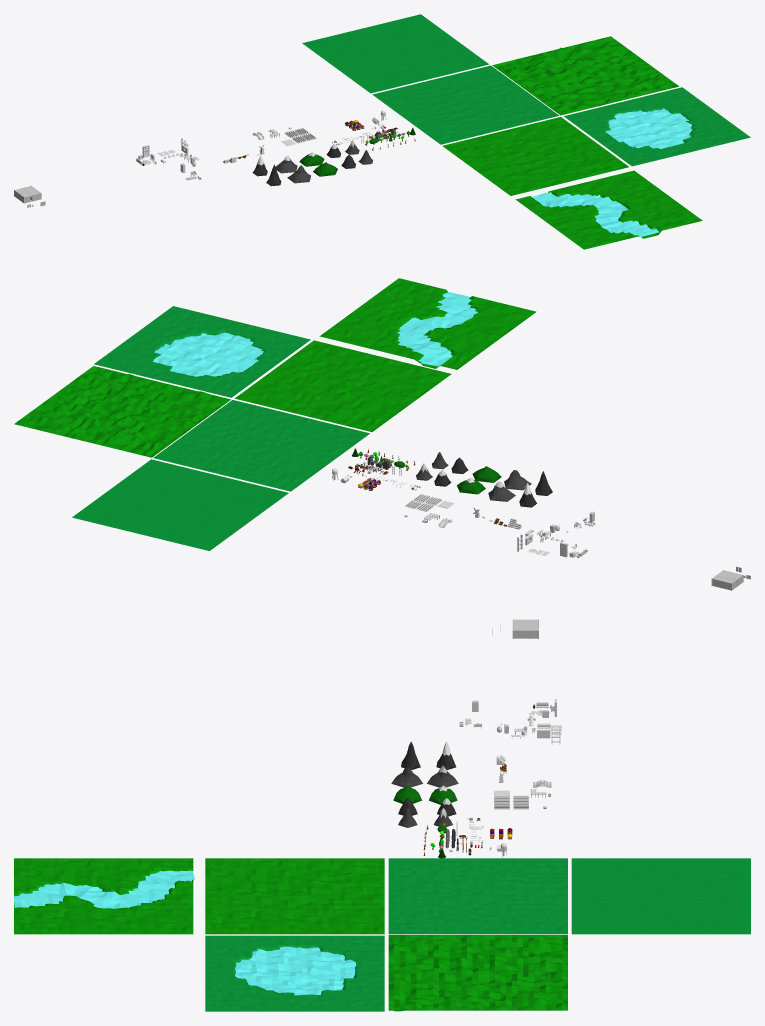
File: Low Poly Pack.fbx
The picture shows the model from 3 angles, top to bottom: view 1: azimuth 30°, elevation 25°; view 2: azimuth 150°, elevation 25°; view 3: azimuth 270°, elevation 25°; orthographic projection. The views are drawn at different scales.
Parts seen in each view (by area): view 1: Ground 2, Ground 6, Ground 1, Ground 3, Ground 5, Ground 4, Lake, River; view 2: Ground 2, Ground 6, Ground 1, Ground 3, Ground 5, Ground 4, Lake, River; view 3: Ground 3, Ground 6, Ground 1, Ground 2, Ground 5, Ground 4, Lake, River.
Part boxes in pixels (left/top/right/bottom): Ground 2: left=492, top=36, right=678, bottom=115; Ground 6: left=302, top=14, right=488, bottom=93; Ground 1: left=372, top=65, right=559, bottom=144; Ground 3: left=442, top=117, right=628, bottom=195; Ground 5: left=515, top=170, right=702, bottom=249; Ground 4: left=563, top=87, right=750, bottom=166; Lake: left=605, top=108, right=692, bottom=148; River: left=532, top=192, right=659, bottom=237; Ground 2: left=14, top=366, right=230, bottom=457; Ground 6: left=72, top=459, right=288, bottom=550; Ground 1: left=153, top=400, right=369, bottom=491; Ground 3: left=235, top=340, right=451, bottom=431; Ground 5: left=319, top=278, right=536, bottom=369; Ground 4: left=94, top=306, right=310, bottom=397; Lake: left=153, top=332, right=263, bottom=376; River: left=397, top=292, right=477, bottom=366; Ground 3: left=205, top=858, right=384, bottom=934; Ground 6: left=571, top=858, right=750, bottom=934; Ground 1: left=388, top=858, right=567, bottom=934; Ground 2: left=388, top=935, right=567, bottom=1011; Ground 5: left=14, top=858, right=193, bottom=934; Ground 4: left=205, top=935, right=384, bottom=1011; Lake: left=235, top=946, right=356, bottom=995; River: left=14, top=870, right=195, bottom=908.
Size of the model in its own units: 438 by 15.16 by 350.
